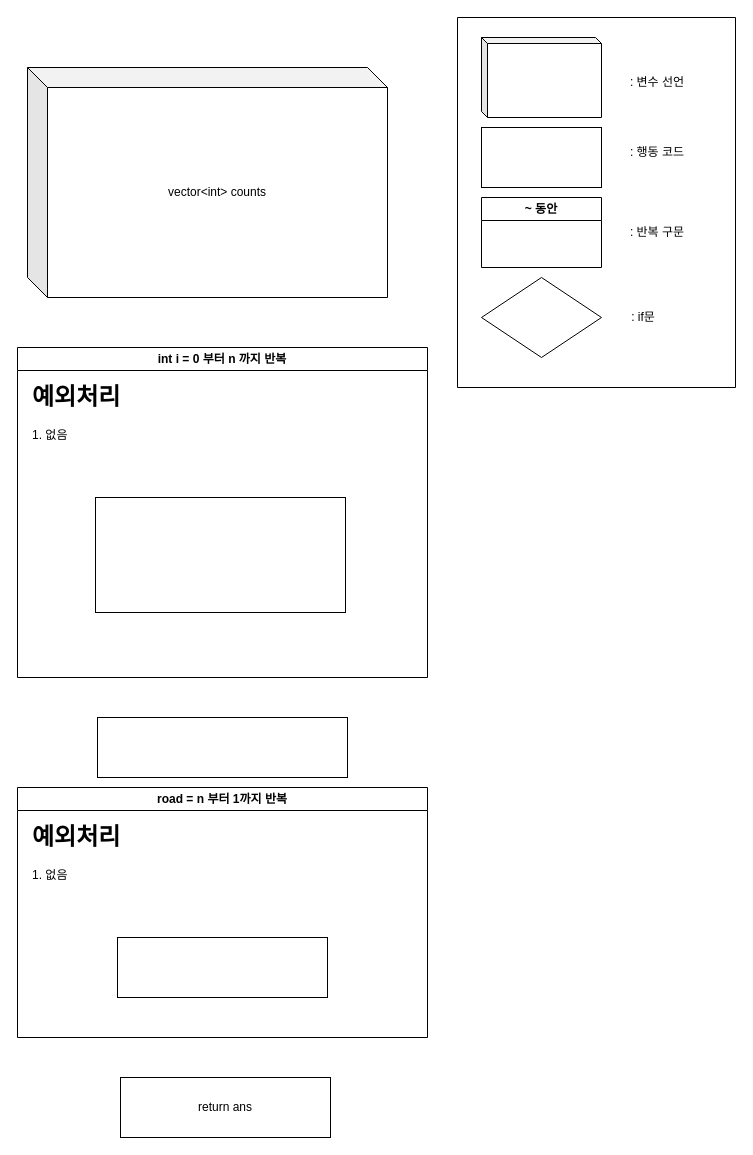
This 753x1155 diagram has some shape labels left out. Here are the shapes that lost their labels. From the top down, the centre of each, then its label:
At point 220,554: "count[roads[i][0]] ++; count[roads[i][1]] ++;".
At point 222,747: "sort(roads.begin(), roads.end())".
At point 222,967: "ans += road * count[value - 1]".
